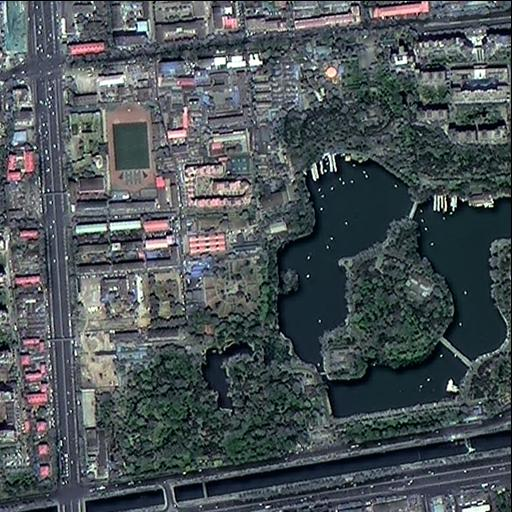school: (58, 103, 162, 200), (207, 129, 252, 176), (201, 72, 235, 109)
